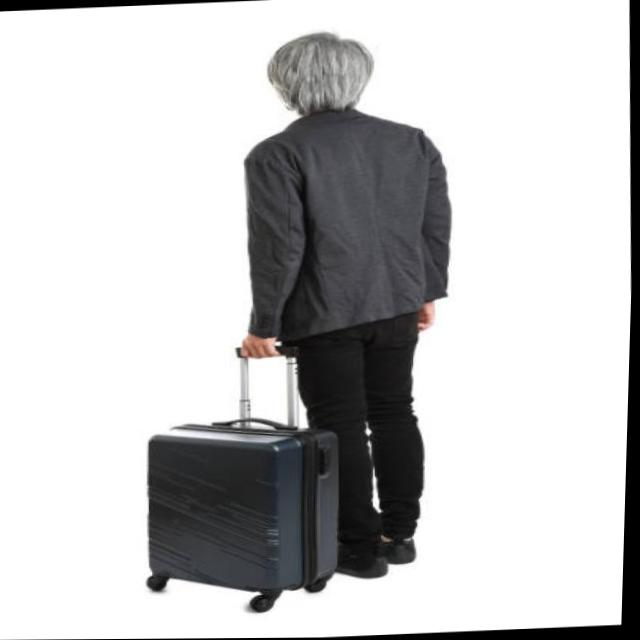no helmet: (260, 23, 386, 126)
